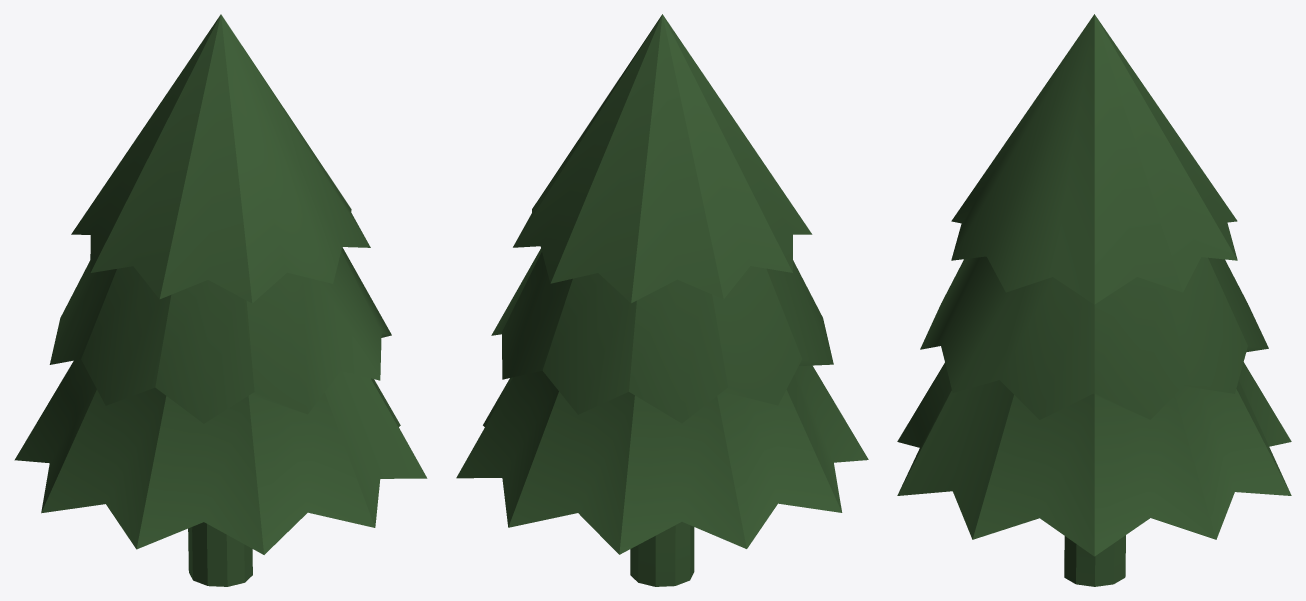
Rendered from tree2_large.fbx.
3 renders of one model, left to right at view 1: azimuth 30°, elevation 25°; view 2: azimuth 150°, elevation 25°; view 3: azimuth 270°, elevation 25°, orthographic.
Parts seen in each view (by area): view 1: pCylinder4; view 2: pCylinder4; view 3: pCylinder4.
Boxes of the visible parts, x1=… form: pCylinder4: x1=14, y1=14, x2=427, y2=586; pCylinder4: x1=456, y1=14, x2=868, y2=586; pCylinder4: x1=897, y1=14, x2=1291, y2=586.
Size of the model in its own units: 18.77 by 27.92 by 17.85.
